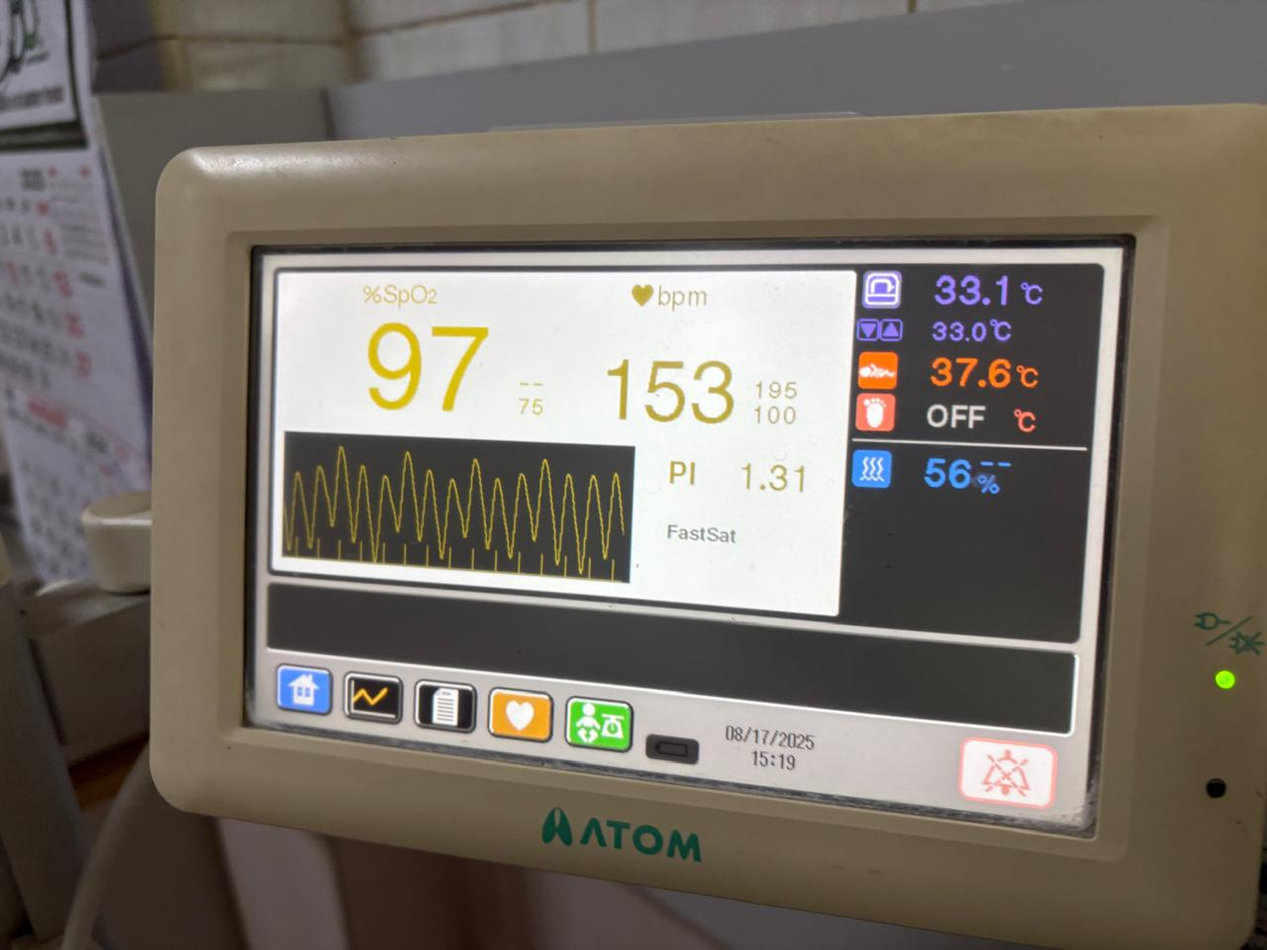air_temp_value: (920, 262, 1018, 322)
heart_rate_value: (586, 327, 746, 444)
humidity_value: (902, 442, 974, 508)
skin_temp_value: (919, 342, 1013, 397)
spo2_value: (351, 312, 498, 421)
